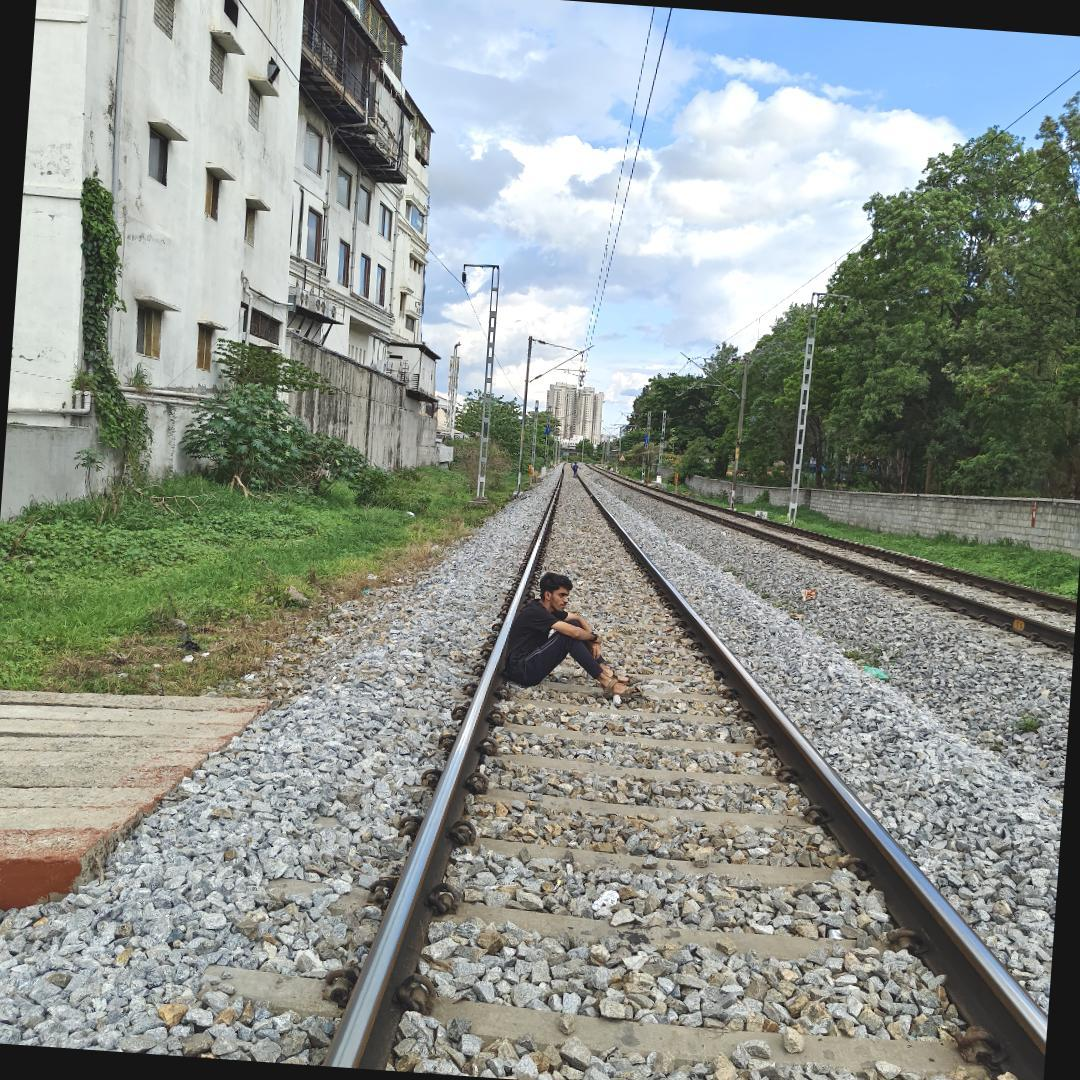sitting: (494, 573, 620, 704)
